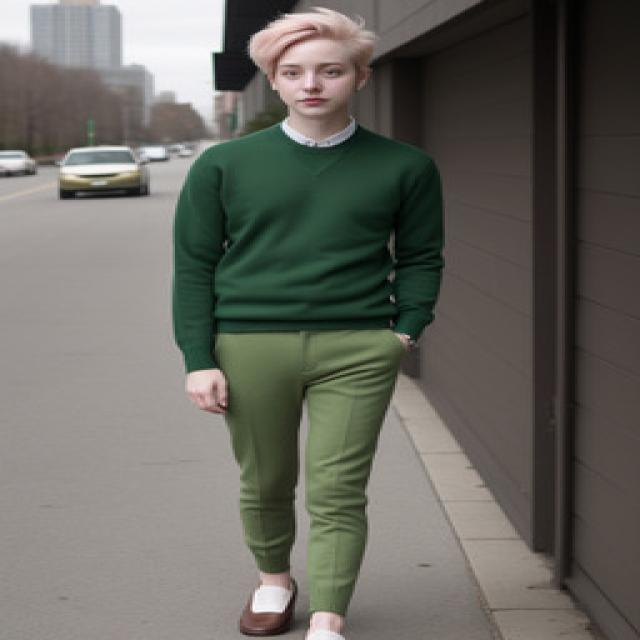Ai human 2: (164, 3, 453, 640)
